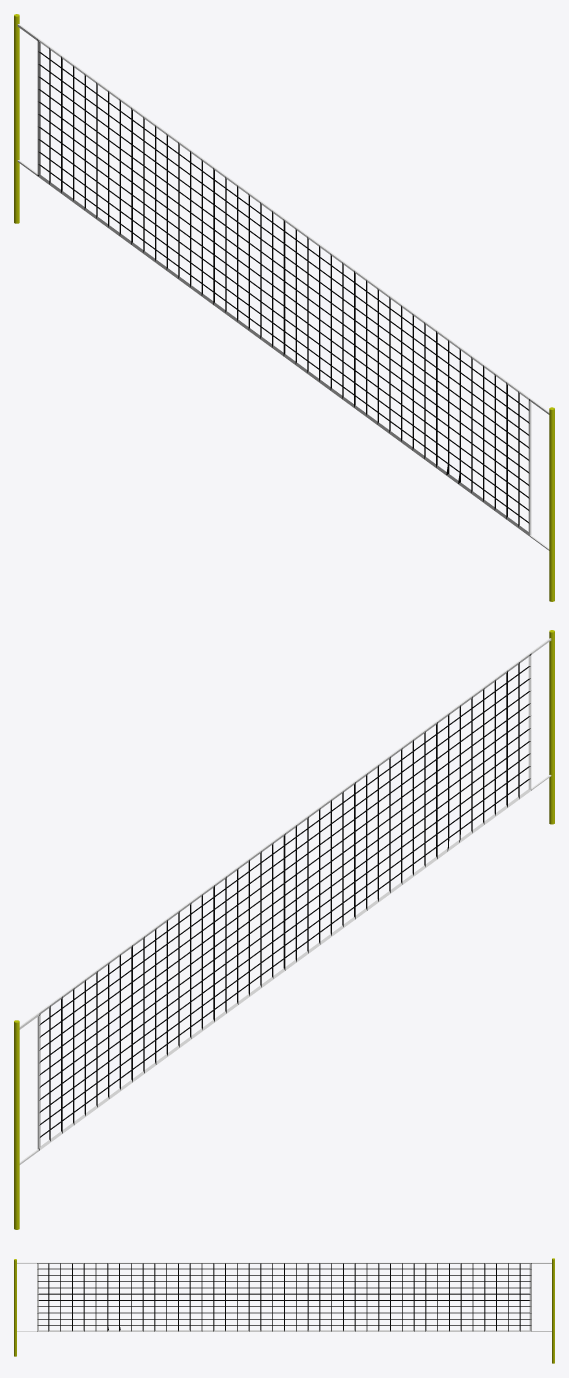
The model's file is badminton.fbx.
3 renders of one model, top to bottom at view 1: azimuth 30°, elevation 25°; view 2: azimuth 150°, elevation 25°; view 3: azimuth 270°, elevation 25°, orthographic. The views are drawn at different scales.
Parts seen in each view (by area): view 1: net; view 2: net; view 3: net.
Part boxes in pixels (x1,y1,x2,y2): net: (14, 14, 554, 601); net: (14, 630, 554, 1229); net: (14, 1258, 554, 1363).
Size of what is drawn, in the model's own units: 12.04 by 473 by 2225.
